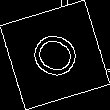O_SE: (23, 24, 87, 86)
